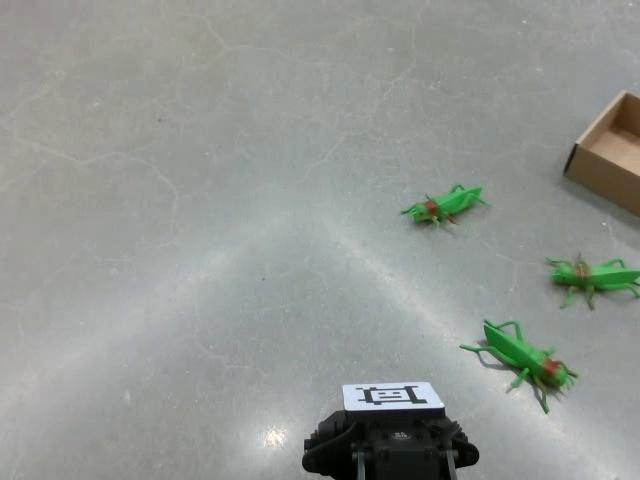box: (562, 88, 639, 216)
grasshopper: (458, 317, 578, 414), (543, 250, 639, 310), (399, 182, 491, 227)
